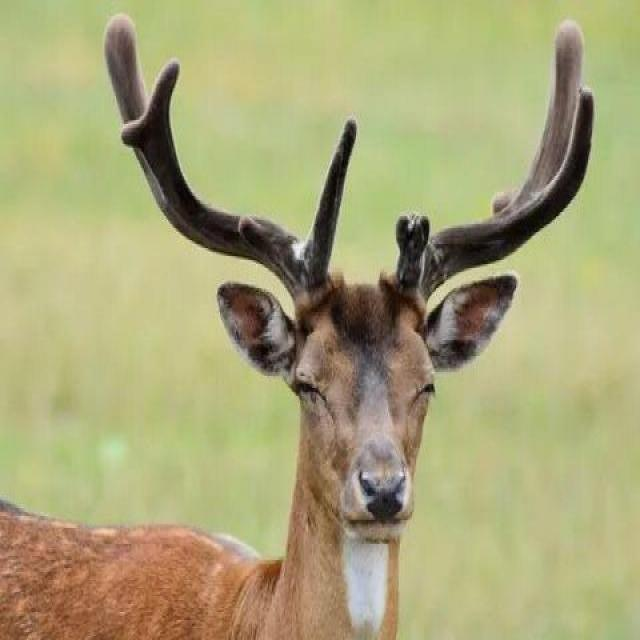deer: (131, 93, 526, 591)
